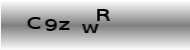9: (44, 18, 57, 31)
C: (26, 16, 41, 29)
R: (95, 8, 110, 21)
w: (81, 23, 99, 33)
z: (56, 20, 70, 30)
